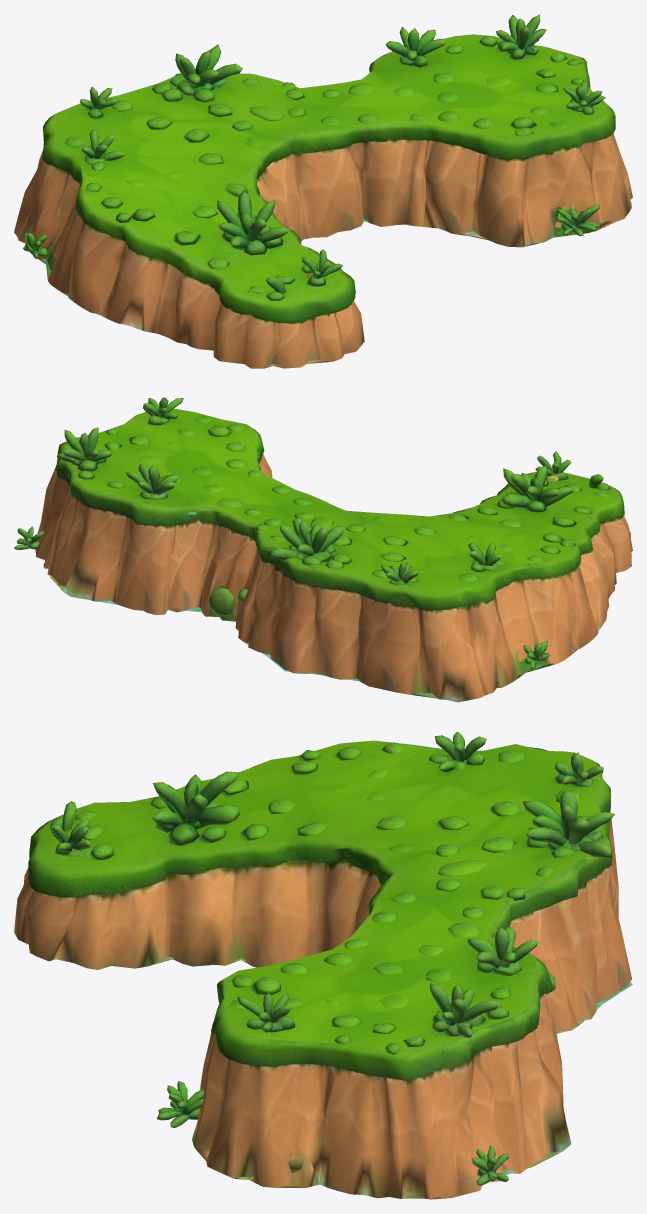
File: s2_r1c1_curved_peninsula_terrain.glb
3 renders of one model, top to bottom at view 1: azimuth 30°, elevation 25°; view 2: azimuth 150°, elevation 25°; view 3: azimuth 270°, elevation 25°, orthographic. The views are drawn at different scales.
Bounding box in the file's own units: 1 × 0.2463 × 0.7457.
Materials: 1 (1 with a texture image).
